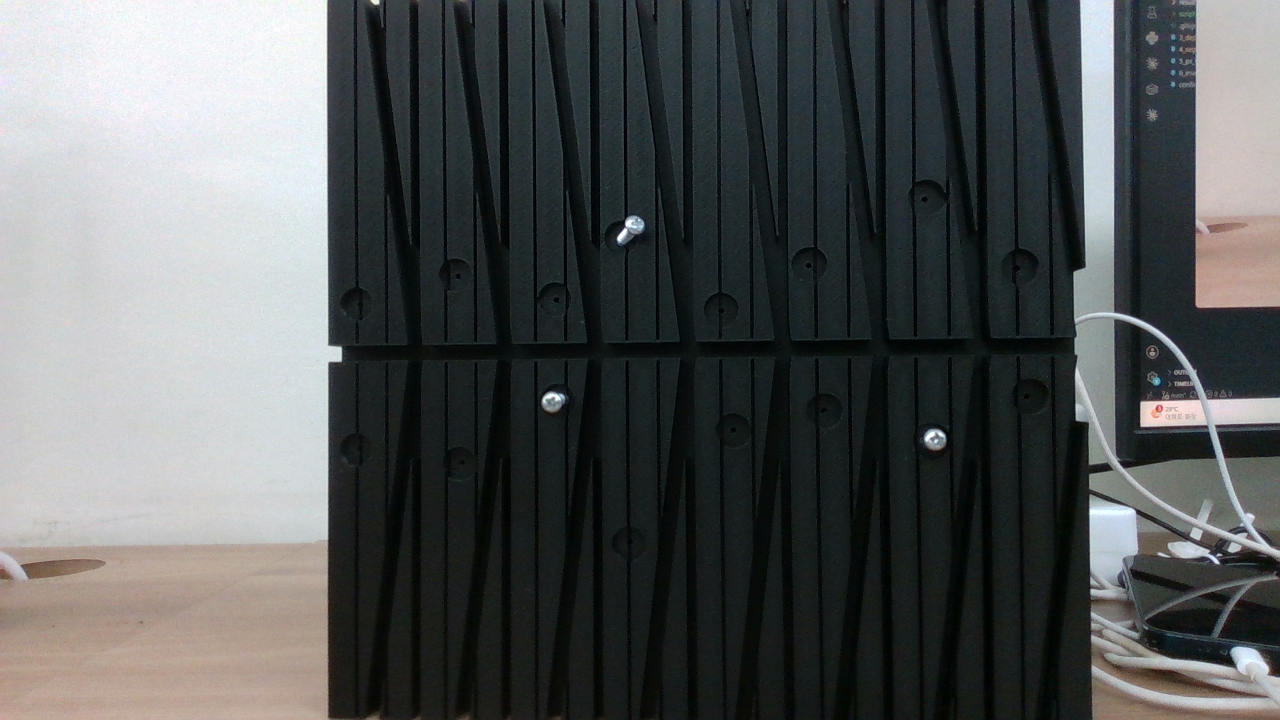screw_head: (926, 427, 950, 451), (629, 215, 647, 233), (543, 393, 561, 411)
stud_hole: (710, 404, 754, 448), (999, 248, 1041, 290), (805, 388, 843, 426), (542, 283, 576, 317), (911, 178, 945, 212), (444, 443, 478, 477), (344, 288, 376, 320), (440, 261, 472, 293), (704, 292, 736, 324), (1010, 379, 1042, 411), (609, 527, 641, 559), (794, 251, 822, 279), (344, 433, 372, 461)
